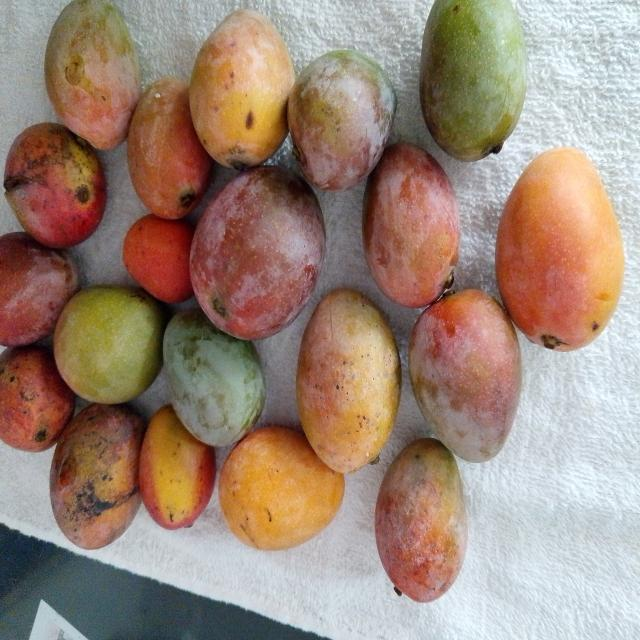mango: (496, 148, 624, 351), (190, 166, 325, 339), (409, 290, 521, 462), (297, 289, 401, 473), (420, 0, 526, 161), (190, 10, 295, 169), (363, 143, 459, 307), (219, 426, 344, 550), (288, 50, 397, 190), (375, 439, 467, 602), (45, 0, 141, 149), (164, 308, 265, 446), (50, 404, 145, 549), (54, 286, 165, 403), (4, 123, 106, 248), (128, 78, 213, 219), (140, 405, 215, 529), (0, 232, 79, 346), (0, 346, 75, 451), (123, 214, 194, 303)
